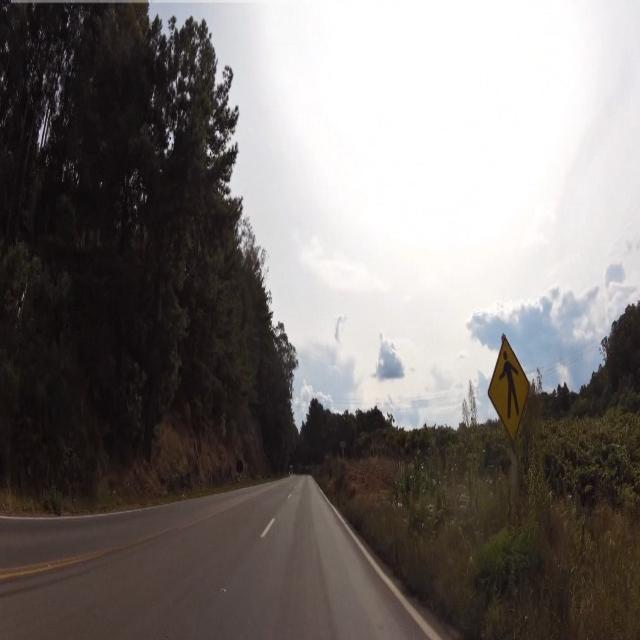A-32a: (488, 320, 536, 446)
